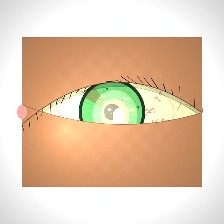corneal_ulcer: (88, 94, 142, 137)
